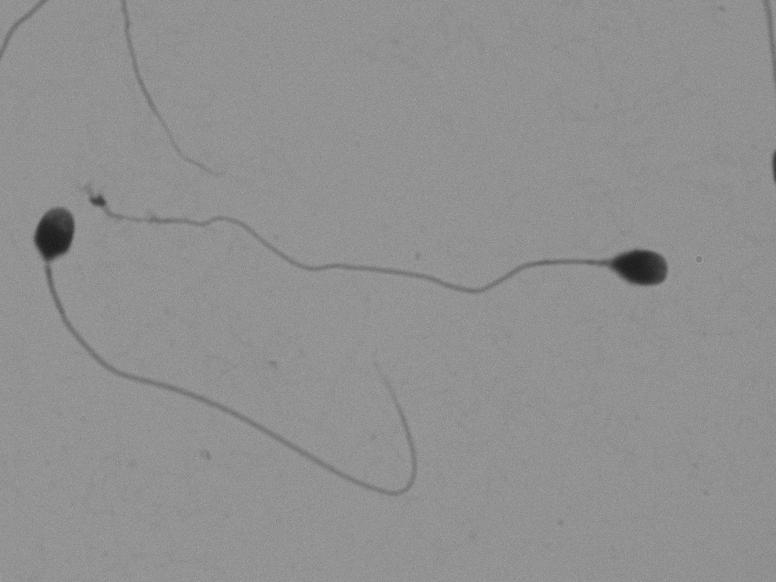Normal: (9, 195, 433, 508), (92, 157, 713, 326)
